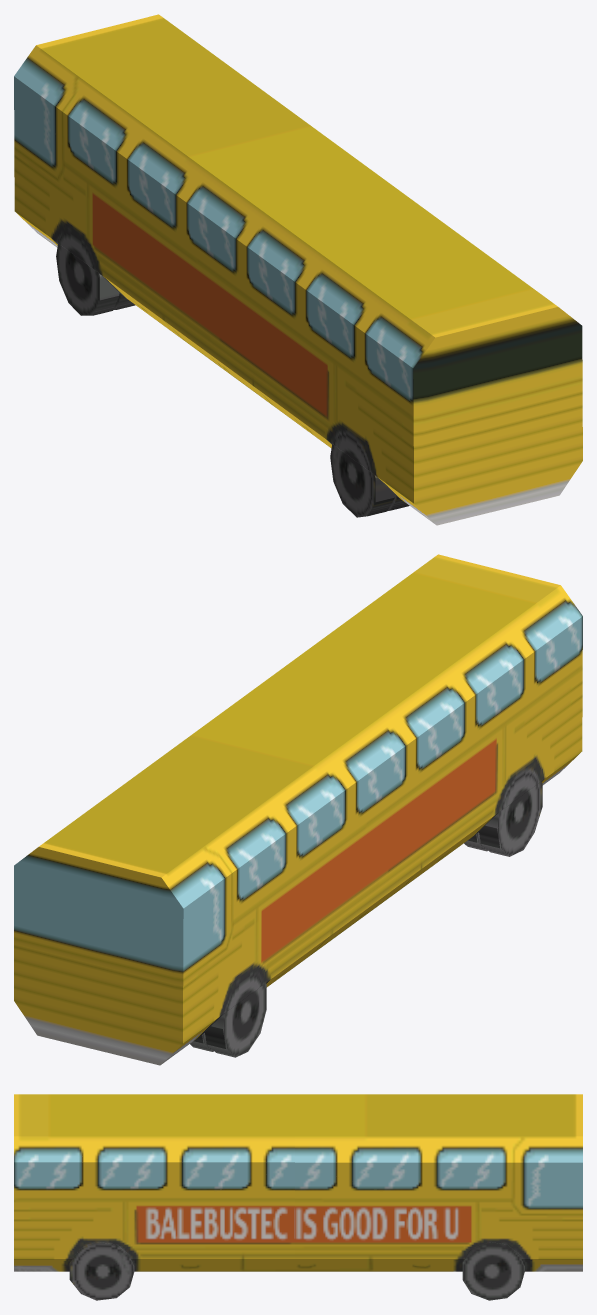
The model's file is Bus.glb.
3 views of the same model, one above another, from view 1: azimuth 30°, elevation 25°; view 2: azimuth 150°, elevation 25°; view 3: azimuth 270°, elevation 25° (orthographic). The views are drawn at different scales.
Visible parts, largest first — view 1: Bus; view 2: Bus; view 3: Bus.
Boxes of the visible parts, x1,y1,x2,y2 form: Bus: (14, 14, 582, 525); Bus: (14, 554, 582, 1065); Bus: (14, 1094, 582, 1300).
Bounding box in the file's own units: 60.86 × 74.57 × 247.
1 material, 1 textured.
